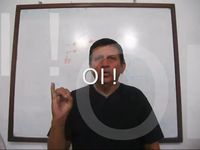oi: (50, 82, 75, 123)
